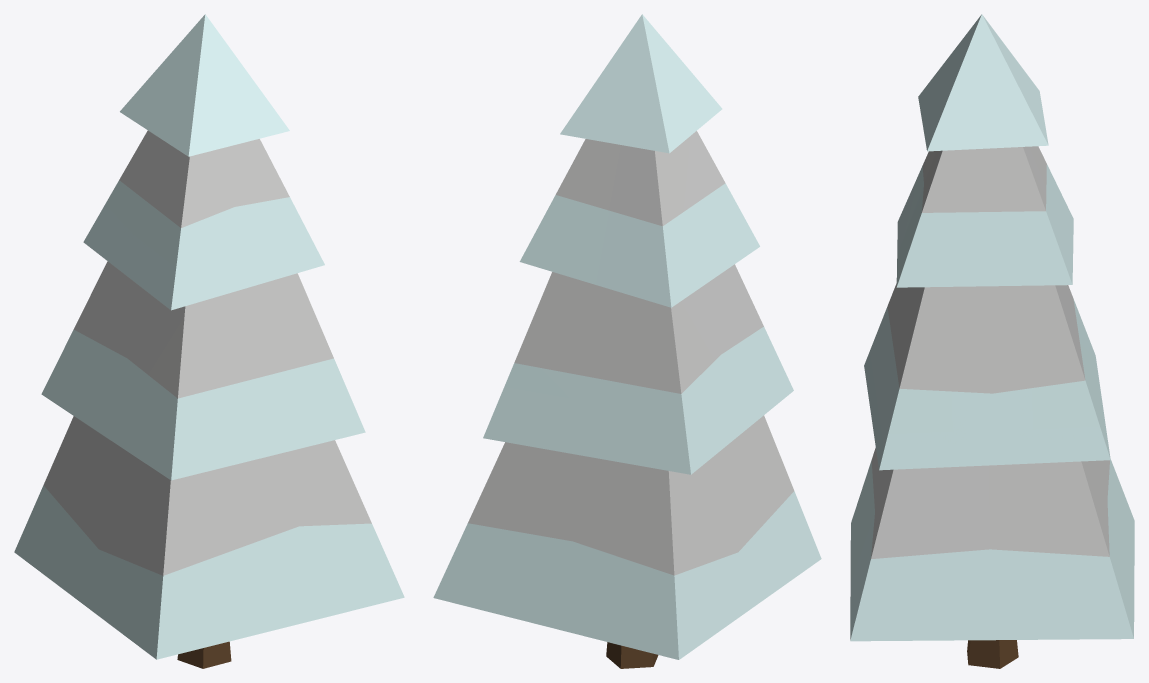
File: nature-tree-fir-snow.glb
3 renders of one model, left to right at view 1: azimuth 30°, elevation 25°; view 2: azimuth 150°, elevation 25°; view 3: azimuth 270°, elevation 25°, orthographic.
Parts seen in each view (by area): view 1: tree-fir-snow; view 2: tree-fir-snow; view 3: tree-fir-snow.
Boxes of the visible parts, x1=… form: tree-fir-snow: x1=14, y1=14, x2=404, y2=668; tree-fir-snow: x1=433, y1=14, x2=821, y2=668; tree-fir-snow: x1=850, y1=14, x2=1134, y2=668.
Size of the model in its own units: 2.33 by 5.79 by 2.33.
